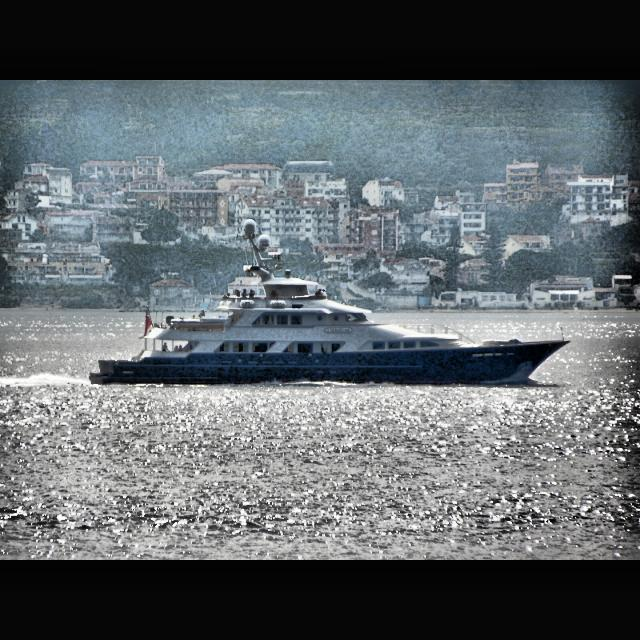yacht: (87, 218, 573, 386)
